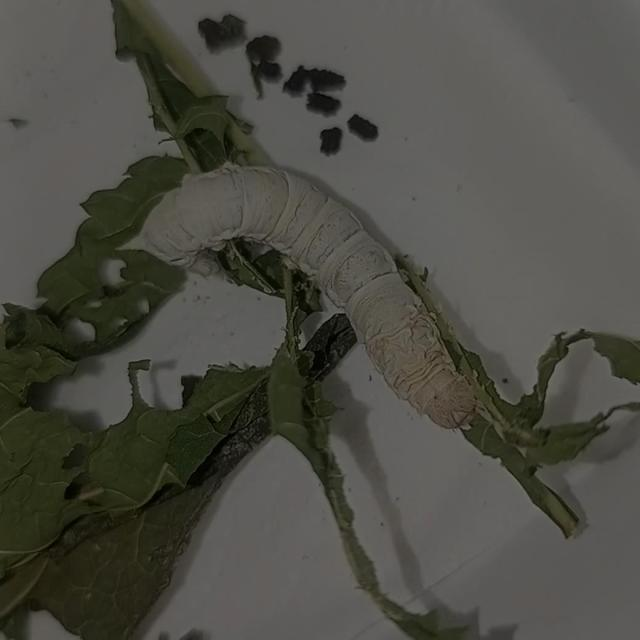Healthy: (102, 134, 515, 446)
